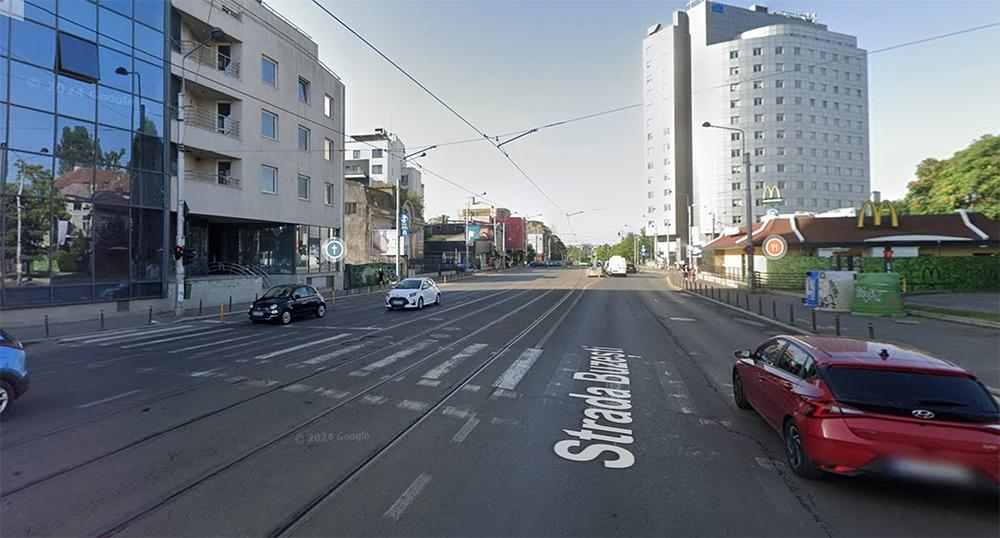faded_road_lines: (51, 315, 761, 469), (313, 326, 428, 393), (421, 380, 537, 428), (536, 277, 605, 349), (56, 326, 195, 358), (180, 329, 302, 359), (383, 458, 434, 526), (705, 365, 764, 420), (217, 331, 323, 361), (422, 338, 494, 379), (538, 347, 584, 405), (653, 358, 698, 415), (490, 347, 546, 390), (607, 348, 640, 412), (445, 419, 478, 450), (176, 368, 235, 384), (229, 373, 277, 390), (310, 384, 349, 402), (396, 396, 428, 417), (359, 394, 389, 407), (282, 382, 310, 395)
pothole: (336, 335, 396, 353)
